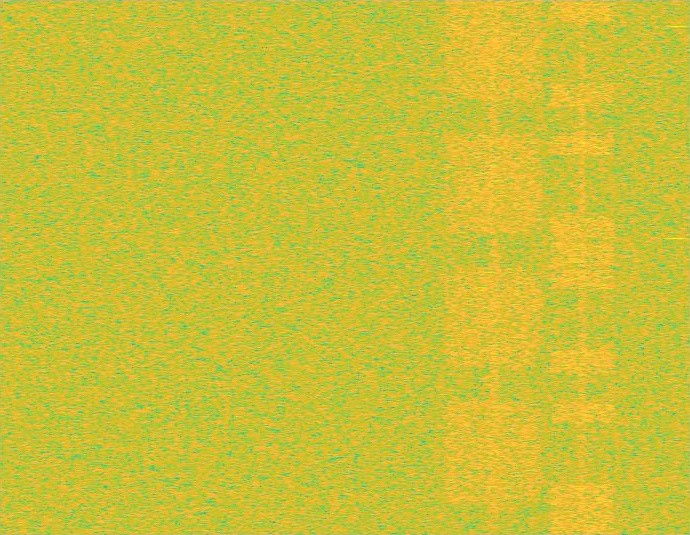5G: (442, 0, 546, 534)
DSSS: (487, 0, 501, 534), (578, 0, 587, 534)
LTE: (548, 0, 617, 534)
Radar: (670, 0, 684, 534)
